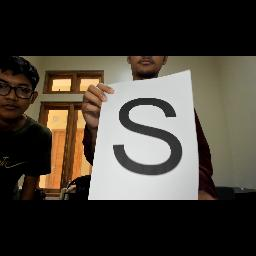s: (106, 96, 194, 180)
